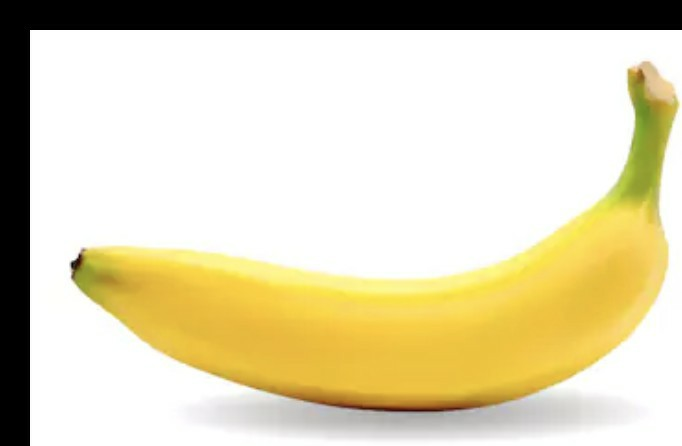fresh_banana: (72, 97, 672, 409)
